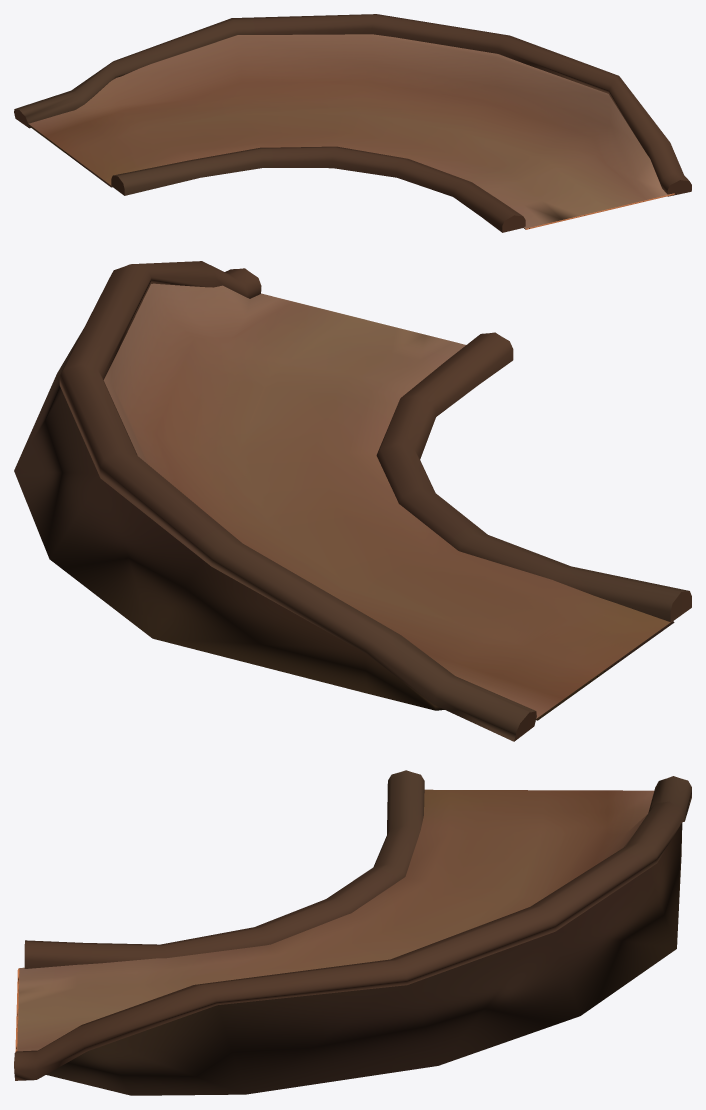
File: DirtBikeTrackWithBarriersCurvedBerm.glb
The picture shows the model from 3 angles, top to bottom: view 1: azimuth 30°, elevation 25°; view 2: azimuth 150°, elevation 25°; view 3: azimuth 270°, elevation 25°; orthographic projection. The views are drawn at different scales.
Visible parts, largest first — view 1: DirtBikeTrackWithBarriersCurvedBerm; view 2: DirtBikeTrackWithBarriersCurvedBerm; view 3: DirtBikeTrackWithBarriersCurvedBerm.
Boxes of the visible parts, x1,y1,x2,y2 form: DirtBikeTrackWithBarriersCurvedBerm: (14, 14, 691, 232); DirtBikeTrackWithBarriersCurvedBerm: (14, 261, 691, 741); DirtBikeTrackWithBarriersCurvedBerm: (14, 770, 691, 1095).
Bounding box in the file's own units: 12.35 × 1.79 × 11.57.
Materials: 1 (1 with a texture image).
